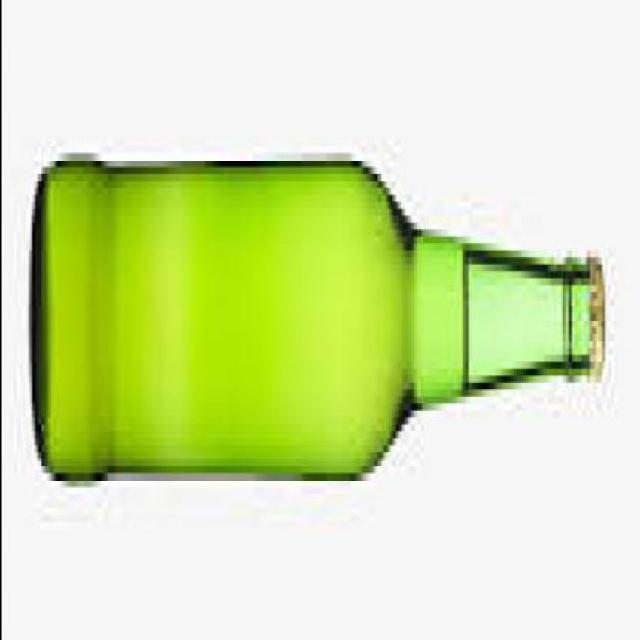GLASS: (33, 168, 592, 494)
METAL: (588, 272, 607, 382)
